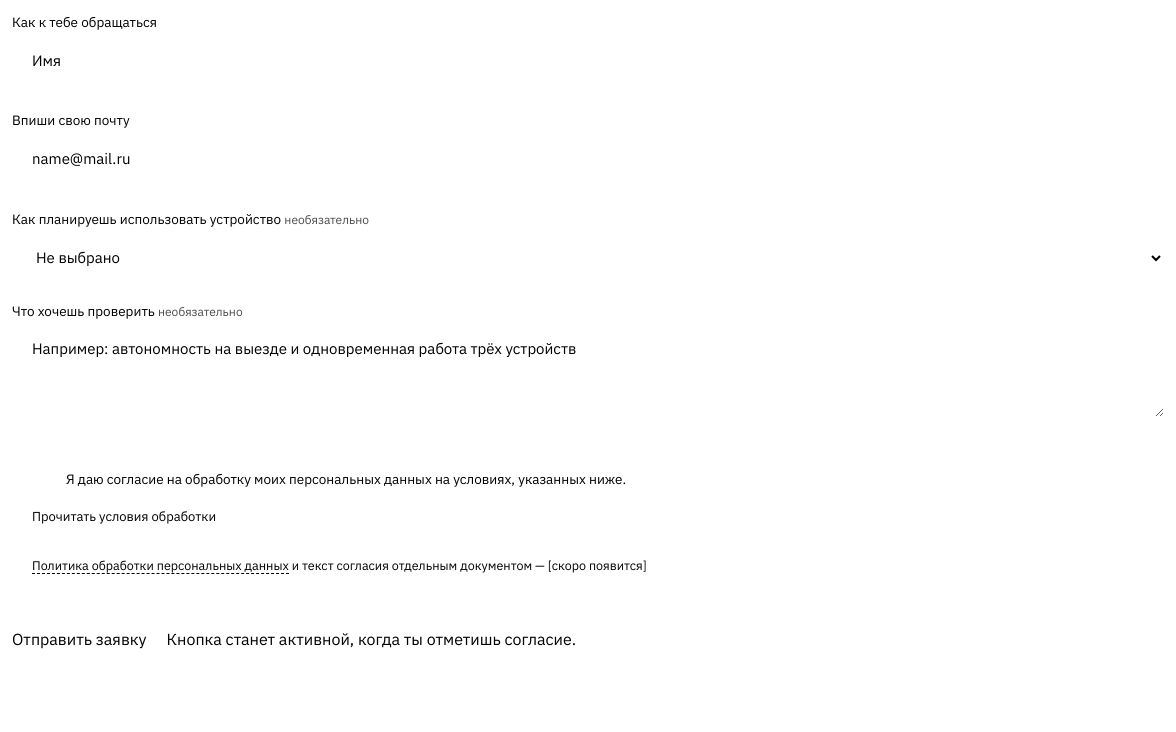
Test: RequestForm › успех: состояние отправки, затем сброс формы и result ok
The image size is (1176, 732).
Step 1. Type " Анна " into the field with id "fName" → [588, 61], box [12,38,1164,84]
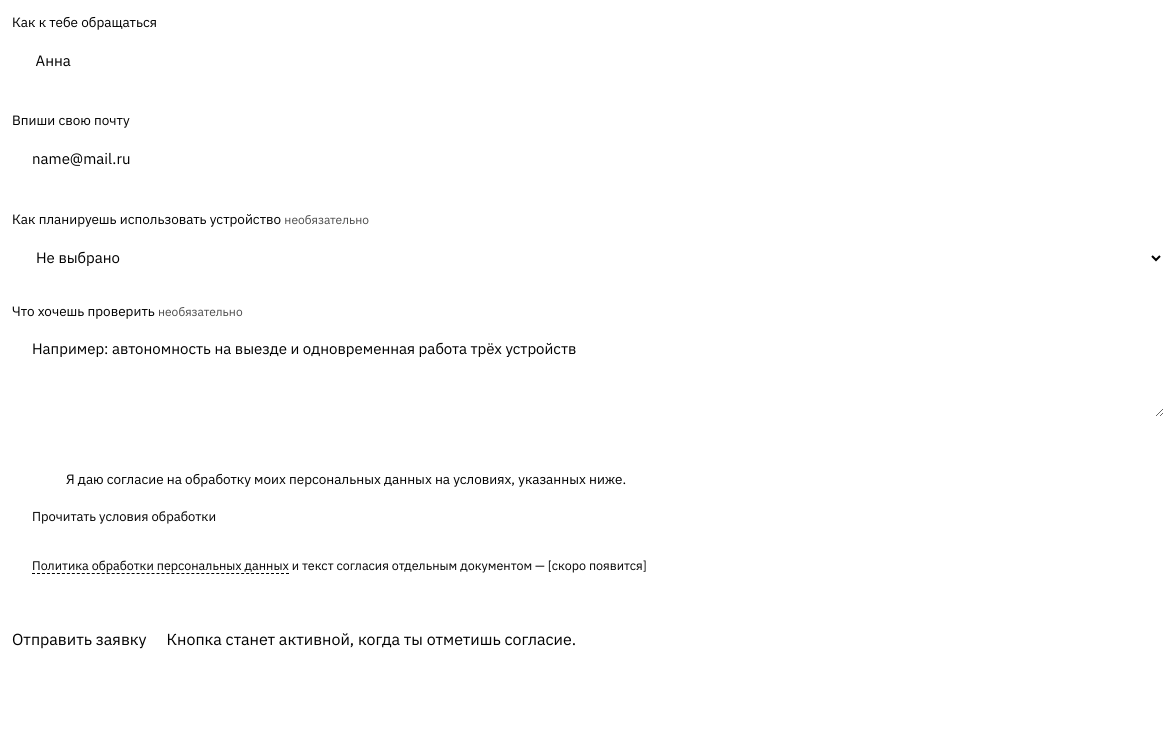
Step 2. Type "anna@mail.ru" into the field with id "fMail" → [588, 160], box [12,136,1164,182]
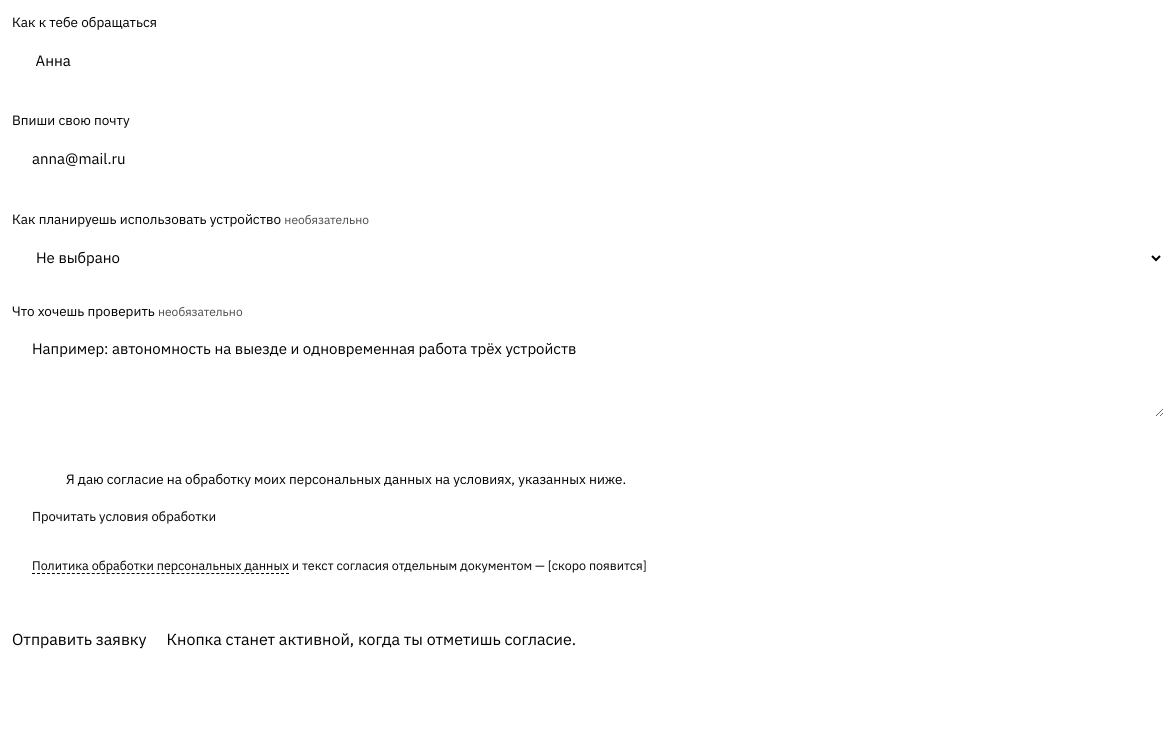
Step 3. Click the checkbox with id "fConsent" → [331, 478], box [36,470,626,488]
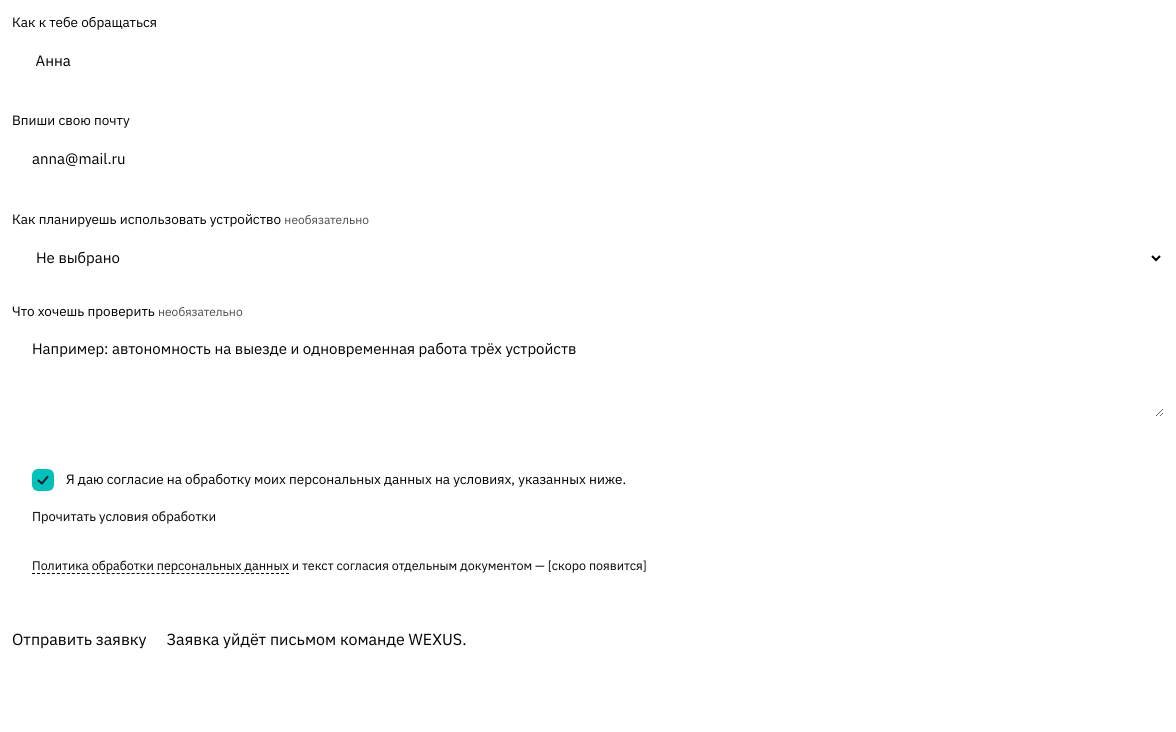
Step 4. Submit the form
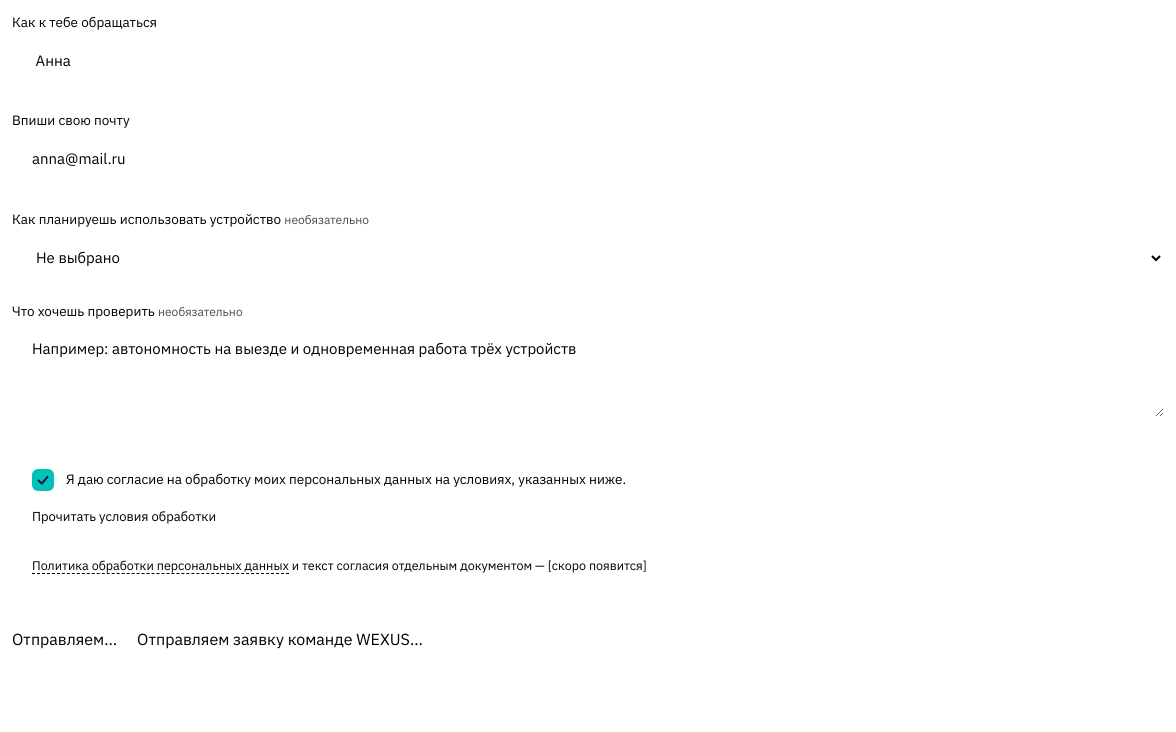
Check: the checkbox with id "fConsent" is disabled, box [32,468,626,490]
Check: the button with id "formSubmit" reads "Отправляем…", box [12,627,117,651]
Step 5. Submit the form
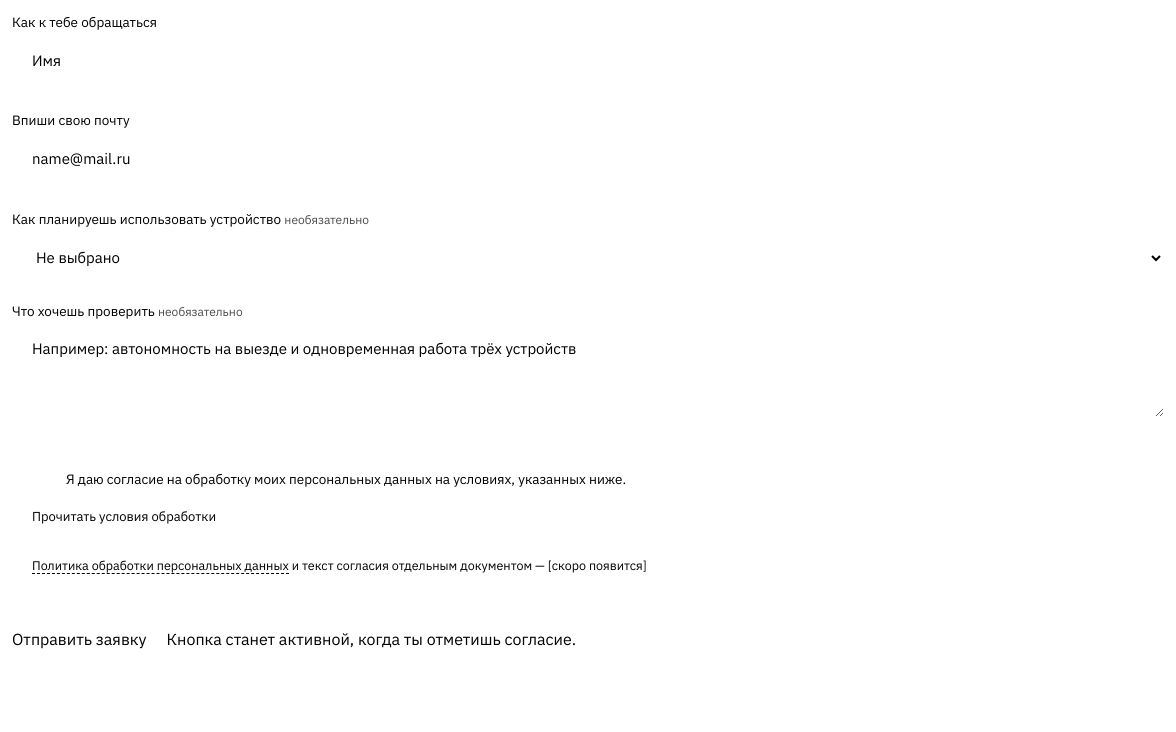
Check: the checkbox with id "fConsent" is not checked, box [36,470,626,488]
Check: the field with id "fName" is empty, box [12,38,1164,84]
